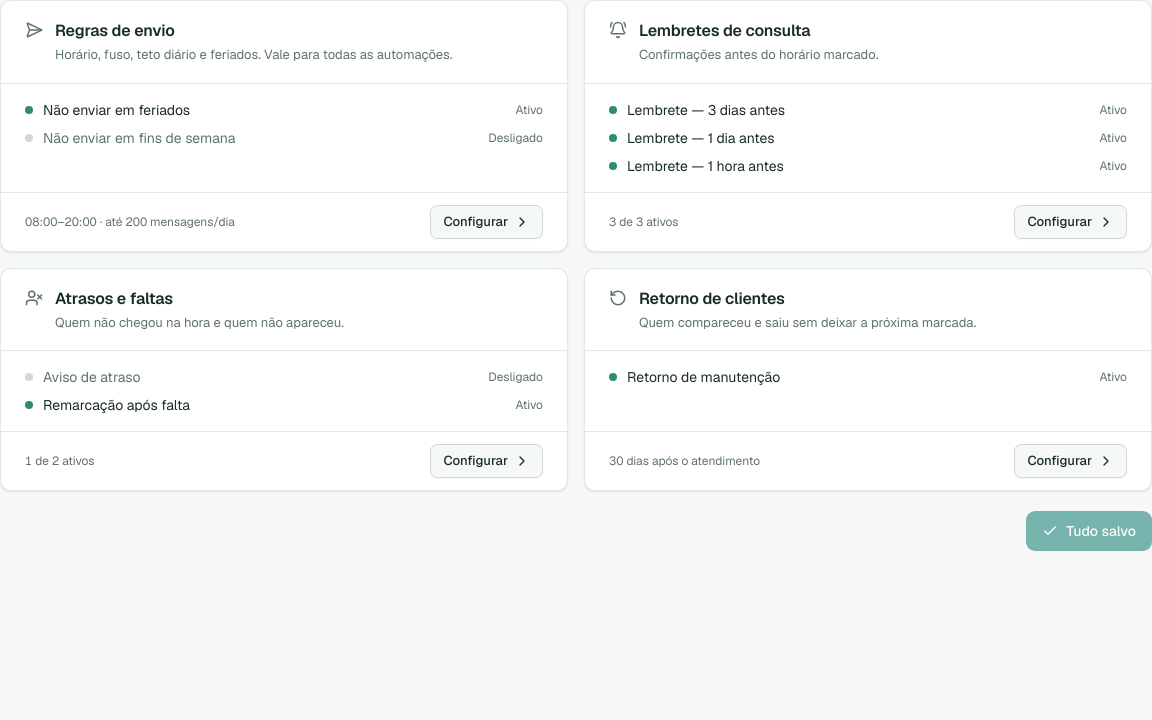
Test: AutomationsTab › mostra o texto já preenchido, como o cliente vai receber
The image size is (1152, 720).
What coordinates should you click on to do the following:
click the button with aria-label "Configurar Lembretes de consulta"
I would click on:
 (1071, 222)
Its box is [1014,204,1127,238].
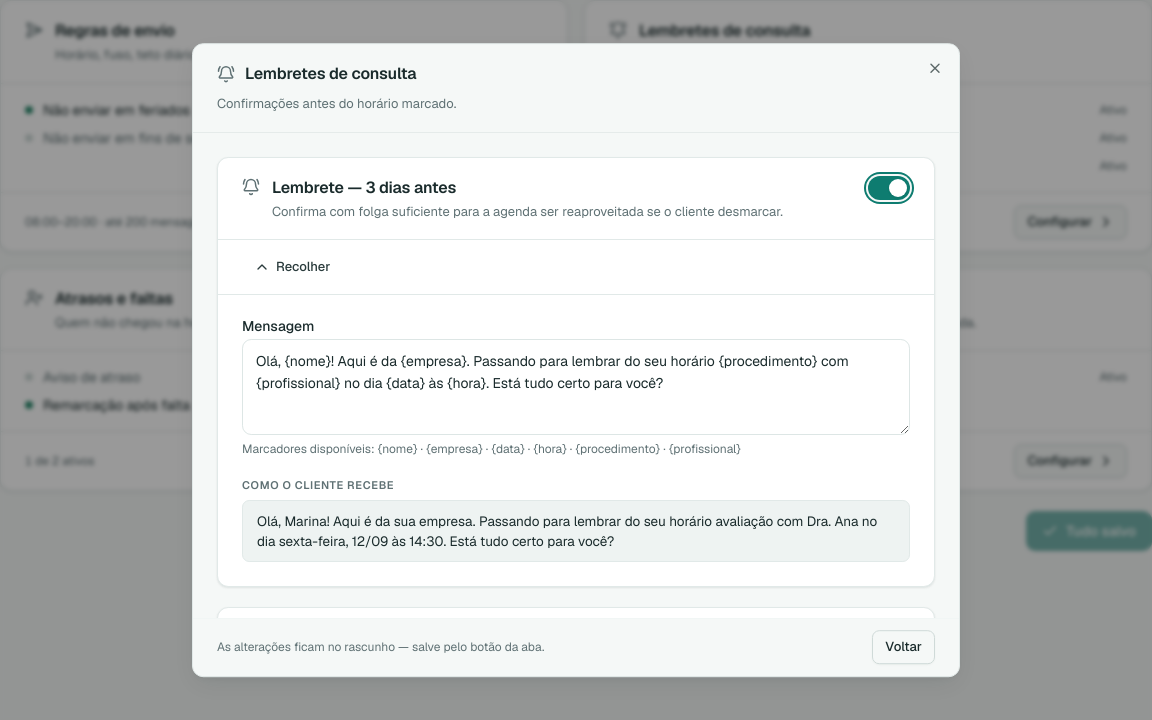
Expected: the text "Marina" is shown, [257,512,877,550]
